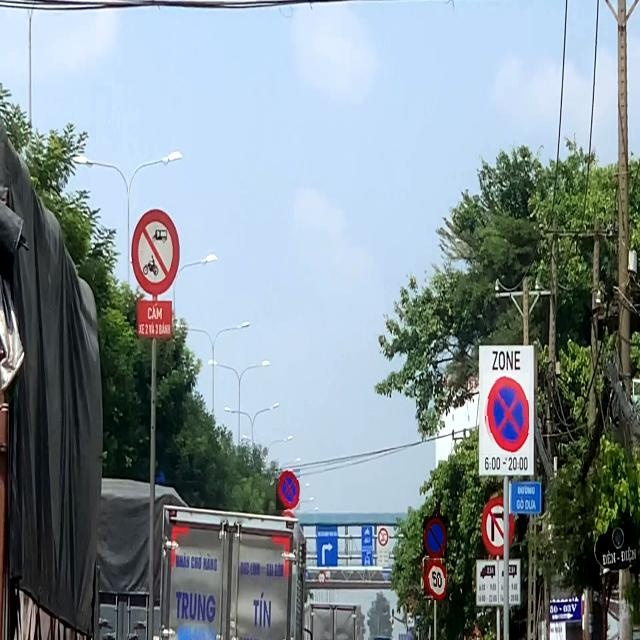bien_cam: (483, 373, 529, 454), (423, 516, 447, 558), (276, 469, 300, 510), (424, 560, 446, 600)
